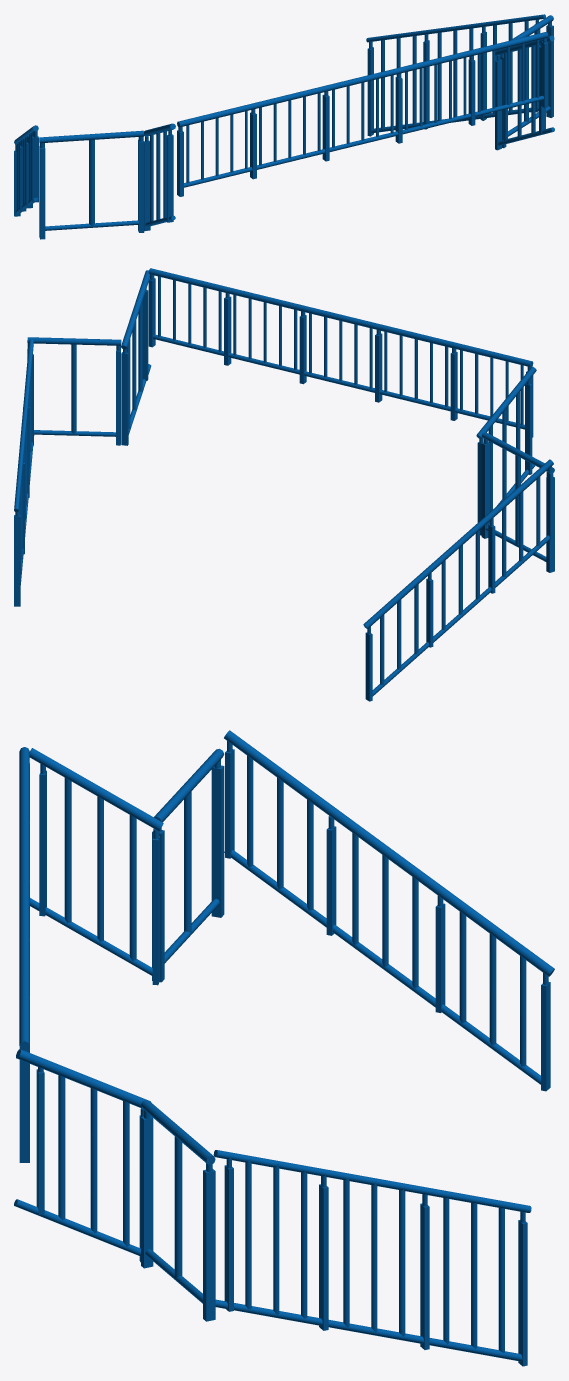
File: Guard_04_Ufa_rev.FBX
The picture shows the model from 3 angles, top to bottom: view 1: azimuth 30°, elevation 25°; view 2: azimuth 150°, elevation 25°; view 3: azimuth 270°, elevation 25°; orthographic projection. The views are drawn at different scales.
Visible parts, largest first — view 1: Guard_04_Ufa_rev; view 2: Guard_04_Ufa_rev; view 3: Guard_04_Ufa_rev.
Boxes of the visible parts, x1,y1,x2,y2 form: Guard_04_Ufa_rev: [14, 14, 554, 239]; Guard_04_Ufa_rev: [14, 268, 554, 701]; Guard_04_Ufa_rev: [14, 730, 554, 1366].
Bounding box in the file's own units: 7.53 × 2.94 × 4.19.
1 material, 1 textured.
